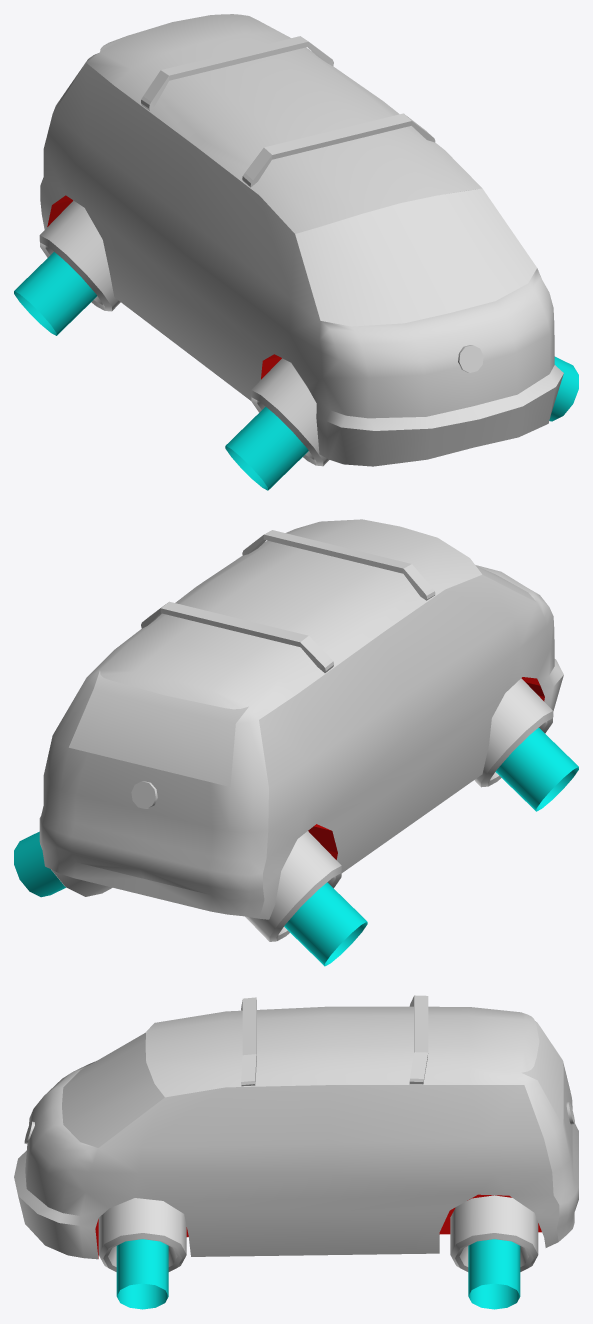
File: Microbus.fbx
The picture shows the model from 3 angles, top to bottom: view 1: azimuth 30°, elevation 25°; view 2: azimuth 150°, elevation 25°; view 3: azimuth 270°, elevation 25°; orthographic projection. The views are drawn at different scales.
Visible parts, largest first — view 1: Microbus; view 2: Microbus; view 3: Microbus.
Boxes of the visible parts, x1,y1,x2,y2 form: Microbus: (14,14,578,490); Microbus: (14,519,578,966); Microbus: (14,995,578,1309).
Bounding box in the file's own units: 321 × 247 × 552.
